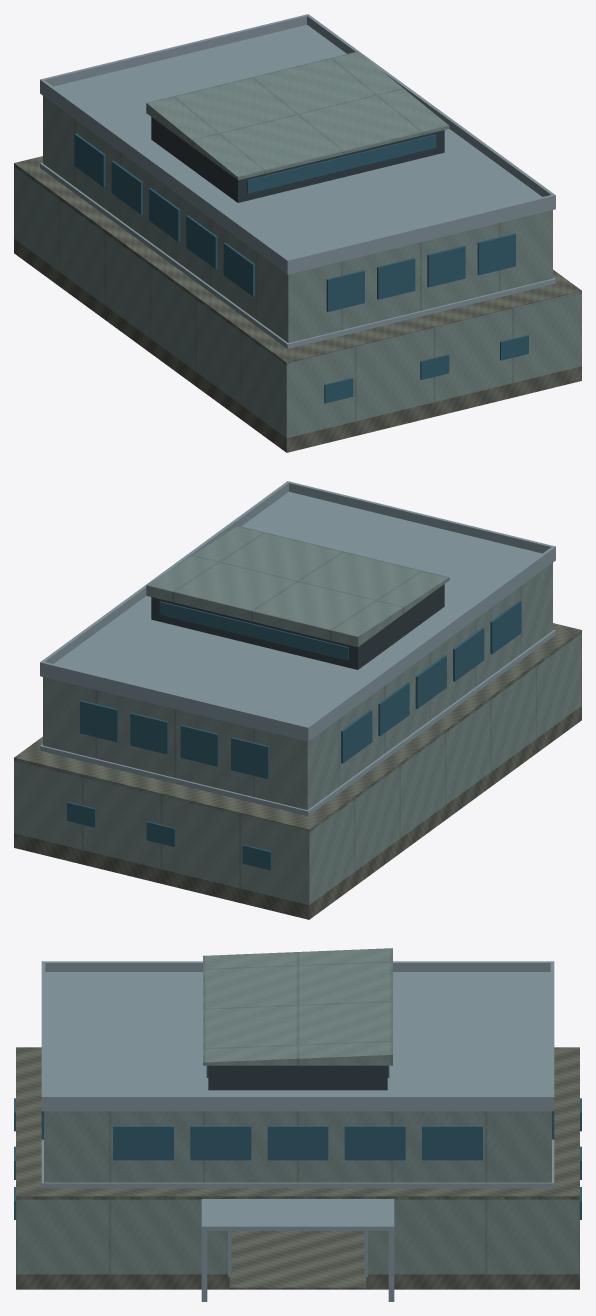
Rendered from Karden_Market.glb.
The picture shows the model from 3 angles, top to bottom: view 1: azimuth 30°, elevation 25°; view 2: azimuth 150°, elevation 25°; view 3: azimuth 270°, elevation 25°; orthographic projection. The views are drawn at different scales.
Visible parts, largest first — view 1: Karden_Market_Roof, Karden_Market_GroundShell, Karden_Market_RoofMonitor, Karden_Market_Upper1_Shell_F1, Karden_Market_TerraceDeck_1, Karden_Market_Foundation, Karden_Market_Upper1_EndGlazing_F1, Karden_Market_Upper1_SideGlazing_F1, Karden_Market_Upper1_SlabBand_F1, Karden_Market_GroundWindows; view 2: Karden_Market_Roof, Karden_Market_GroundShell, Karden_Market_RoofMonitor, Karden_Market_Upper1_Shell_F1, Karden_Market_TerraceDeck_1, Karden_Market_Foundation, Karden_Market_Upper1_EndGlazing_F1, Karden_Market_Upper1_SideGlazing_F1, Karden_Market_Upper1_SlabBand_F1, Karden_Market_GroundWindows; view 3: Karden_Market_Roof, Karden_Market_GroundShell, Karden_Market_Upper1_Shell_F1, Karden_Market_RoofMonitor, Karden_Market_TerraceDeck_1, Karden_Market_Foundation, Karden_Market_Upper1_EndGlazing_F1, Karden_Market_PortalFixture, Karden_Market_Upper1_SlabBand_F1, Karden_Market_ThresholdRamp.
Boxes of the visible parts, bbox=[...] form: Karden_Market_Roof: bbox=[40, 14, 555, 274]; Karden_Market_GroundShell: bbox=[14, 164, 581, 437]; Karden_Market_RoofMonitor: bbox=[146, 51, 449, 202]; Karden_Market_Upper1_Shell_F1: bbox=[43, 96, 552, 348]; Karden_Market_TerraceDeck_1: bbox=[14, 156, 581, 365]; Karden_Market_Foundation: bbox=[14, 239, 581, 452]; Karden_Market_Upper1_EndGlazing_F1: bbox=[74, 133, 254, 296]; Karden_Market_Upper1_SideGlazing_F1: bbox=[326, 233, 515, 311]; Karden_Market_Upper1_SlabBand_F1: bbox=[40, 162, 555, 348]; Karden_Market_GroundWindows: bbox=[324, 335, 528, 403]; Karden_Market_Roof: bbox=[40, 481, 555, 741]; Karden_Market_GroundShell: bbox=[14, 631, 581, 904]; Karden_Market_RoofMonitor: bbox=[146, 526, 449, 669]; Karden_Market_Upper1_Shell_F1: bbox=[43, 563, 552, 815]; Karden_Market_TerraceDeck_1: bbox=[14, 623, 581, 832]; Karden_Market_Foundation: bbox=[14, 706, 581, 919]; Karden_Market_Upper1_EndGlazing_F1: bbox=[341, 600, 521, 763]; Karden_Market_Upper1_SideGlazing_F1: bbox=[80, 700, 269, 778]; Karden_Market_Upper1_SlabBand_F1: bbox=[40, 629, 555, 815]; Karden_Market_GroundWindows: bbox=[67, 802, 271, 870]; Karden_Market_Roof: bbox=[41, 961, 554, 1111]; Karden_Market_GroundShell: bbox=[16, 1197, 579, 1274]; Karden_Market_Upper1_Shell_F1: bbox=[44, 1111, 551, 1182]; Karden_Market_RoofMonitor: bbox=[203, 948, 392, 1090]; Karden_Market_TerraceDeck_1: bbox=[16, 1047, 579, 1199]; Karden_Market_Foundation: bbox=[16, 1231, 579, 1289]; Karden_Market_Upper1_EndGlazing_F1: bbox=[113, 1126, 482, 1160]; Karden_Market_PortalFixture: bbox=[201, 1199, 394, 1301]; Karden_Market_Upper1_SlabBand_F1: bbox=[41, 1139, 554, 1188]; Karden_Market_ThresholdRamp: bbox=[229, 1274, 366, 1289].
Bounding box in the file's own units: 17.8 × 10.02 × 24.16.
6 materials, 2 textured.
